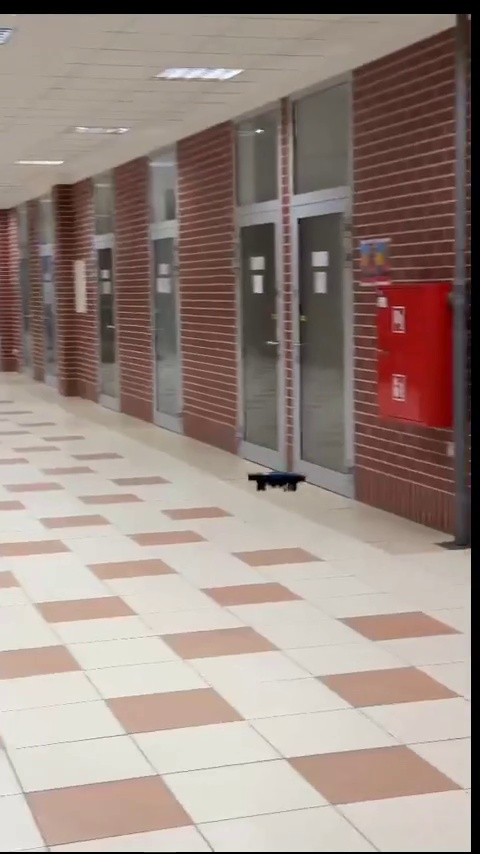drone: (249, 469, 307, 494)
